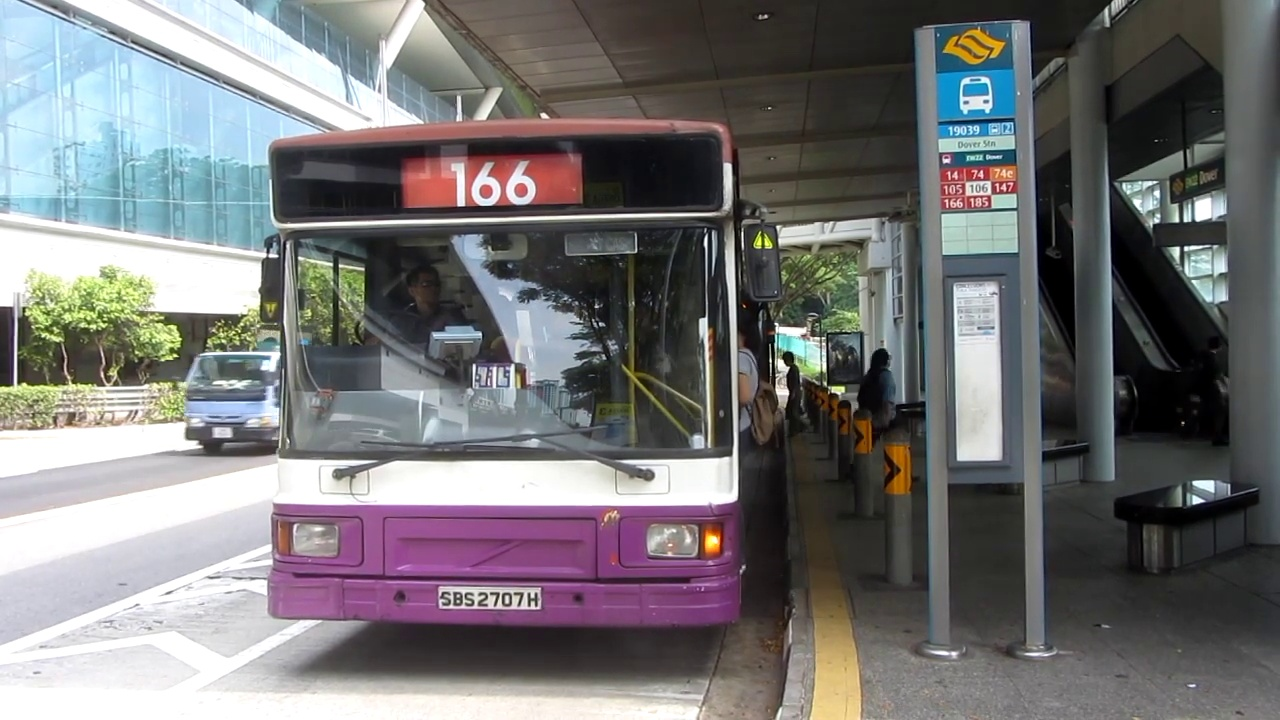bus panel: (398, 151, 586, 211)
